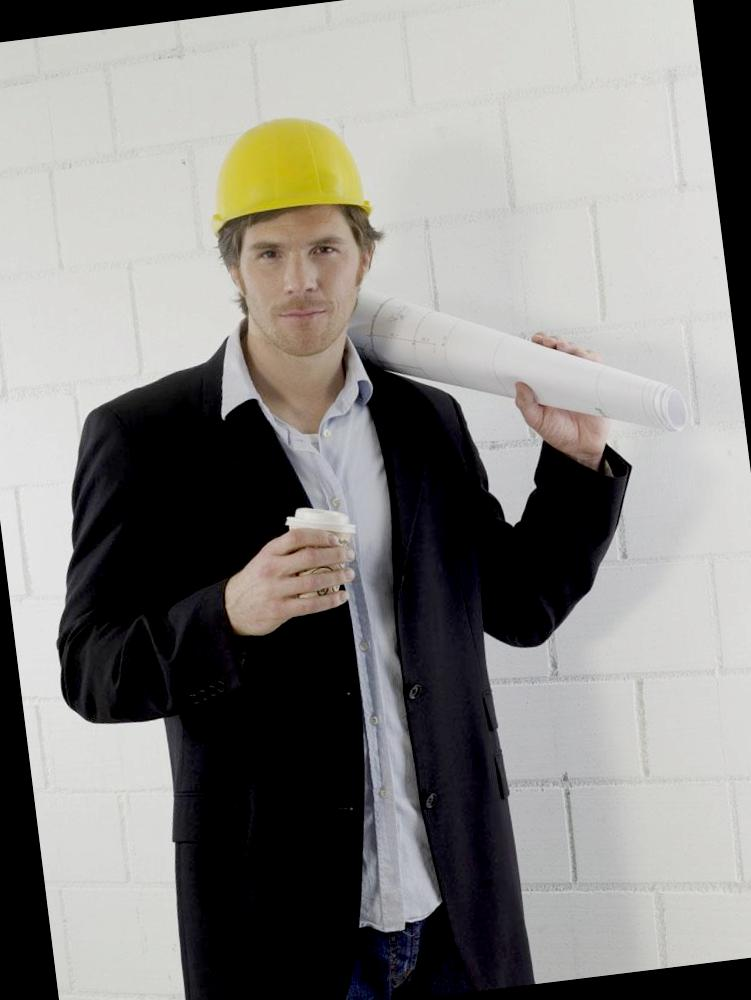helmet: (198, 100, 388, 266)
no_vest: (43, 335, 536, 978)
person: (0, 85, 623, 1000)
